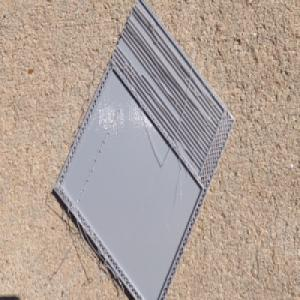PlasticPart: (51, 0, 235, 300)
